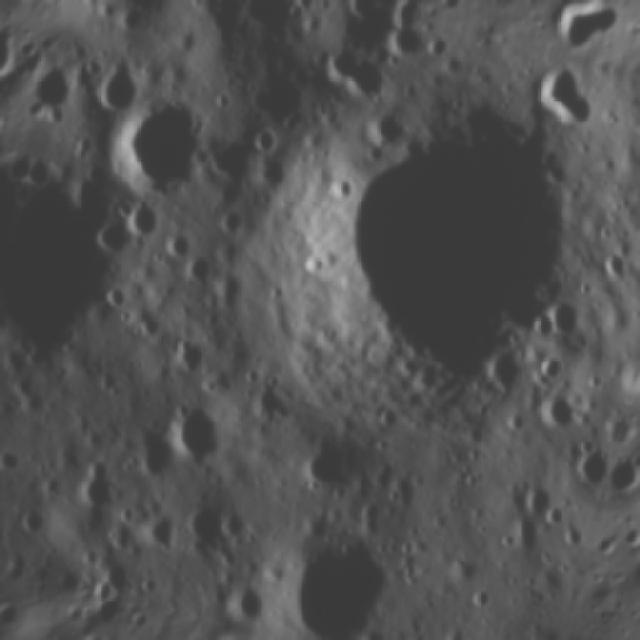crater: (233, 67, 627, 479), (262, 500, 404, 640), (106, 87, 234, 216), (158, 389, 238, 473), (293, 424, 375, 504), (80, 39, 152, 118), (121, 411, 194, 487), (173, 489, 242, 566), (127, 498, 188, 560), (84, 0, 188, 31)
